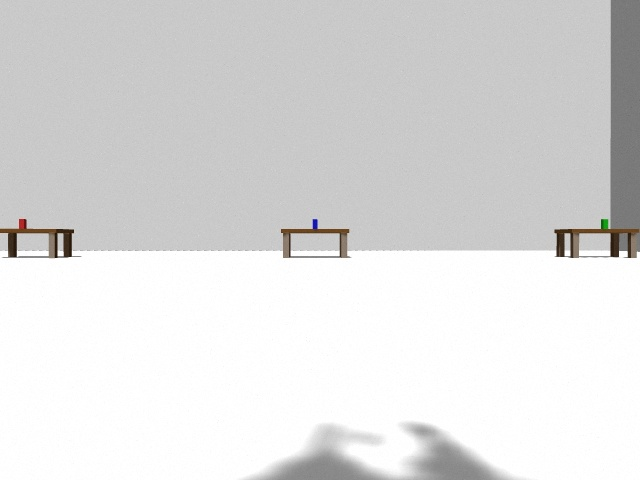blue_cube: (313, 219, 318, 229)
green_cube: (601, 219, 608, 229)
red_cube: (19, 219, 24, 229)
